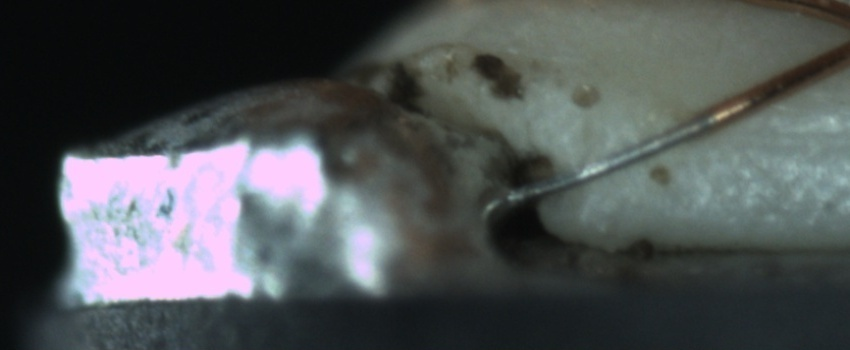DL: (699, 103, 850, 173)
TS: (511, 110, 714, 205)
TTCW: (488, 79, 728, 211)
